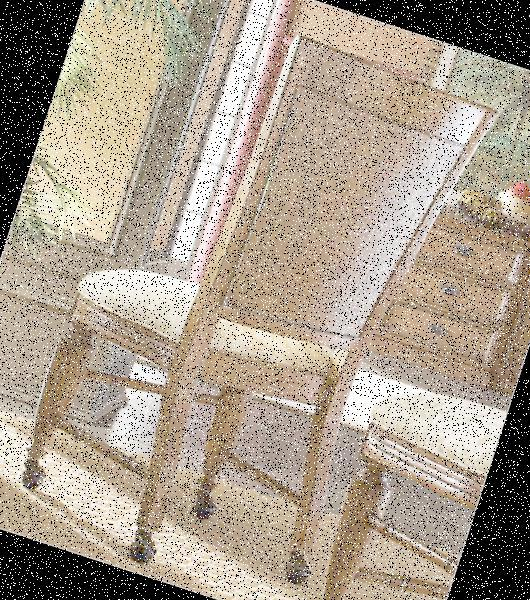Silla: (0, 0, 498, 599)
